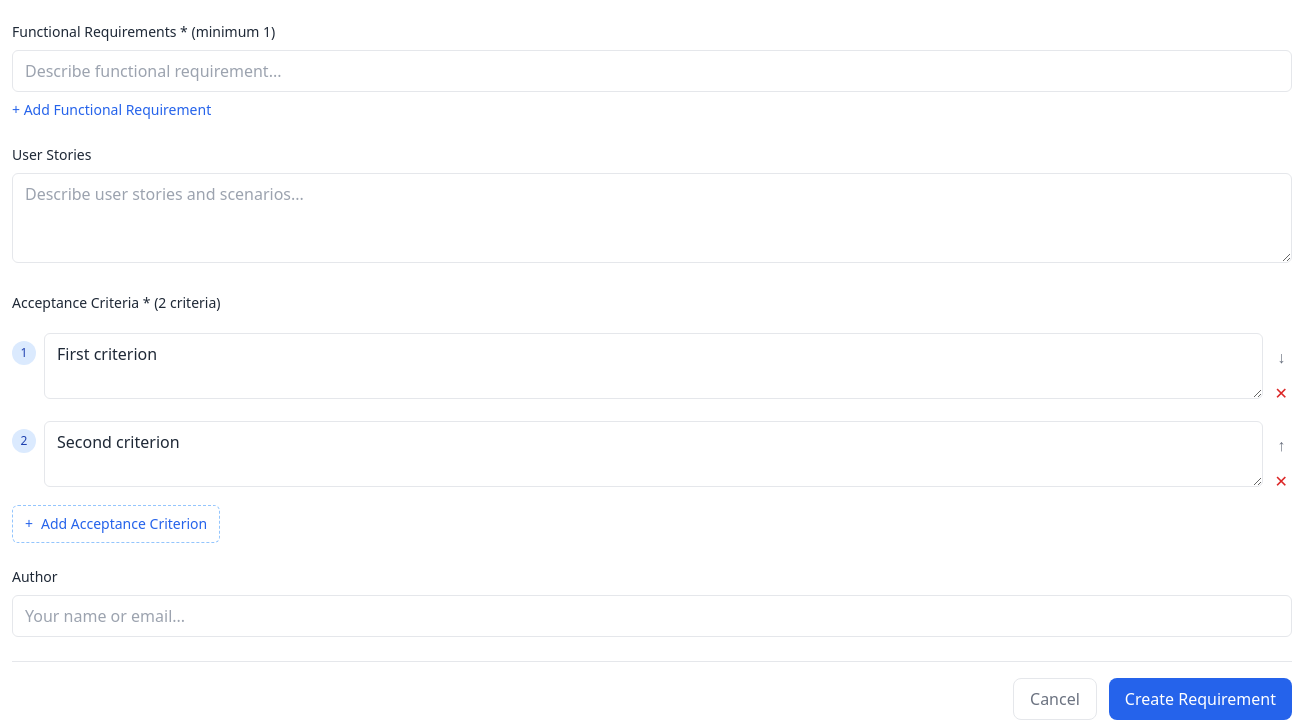
Test: RequirementForm - Acceptance Criteria Basic Tests › should remove criterion when remove button clicked
The image size is (1304, 720).
(page scrolled)
What coordinates should you click on to do the following:
click the 1st button titled "Remove acceptance criterion"
I would click on:
 (1281, 393)
Its box is [1271,377,1292,409].
(page scrolled)
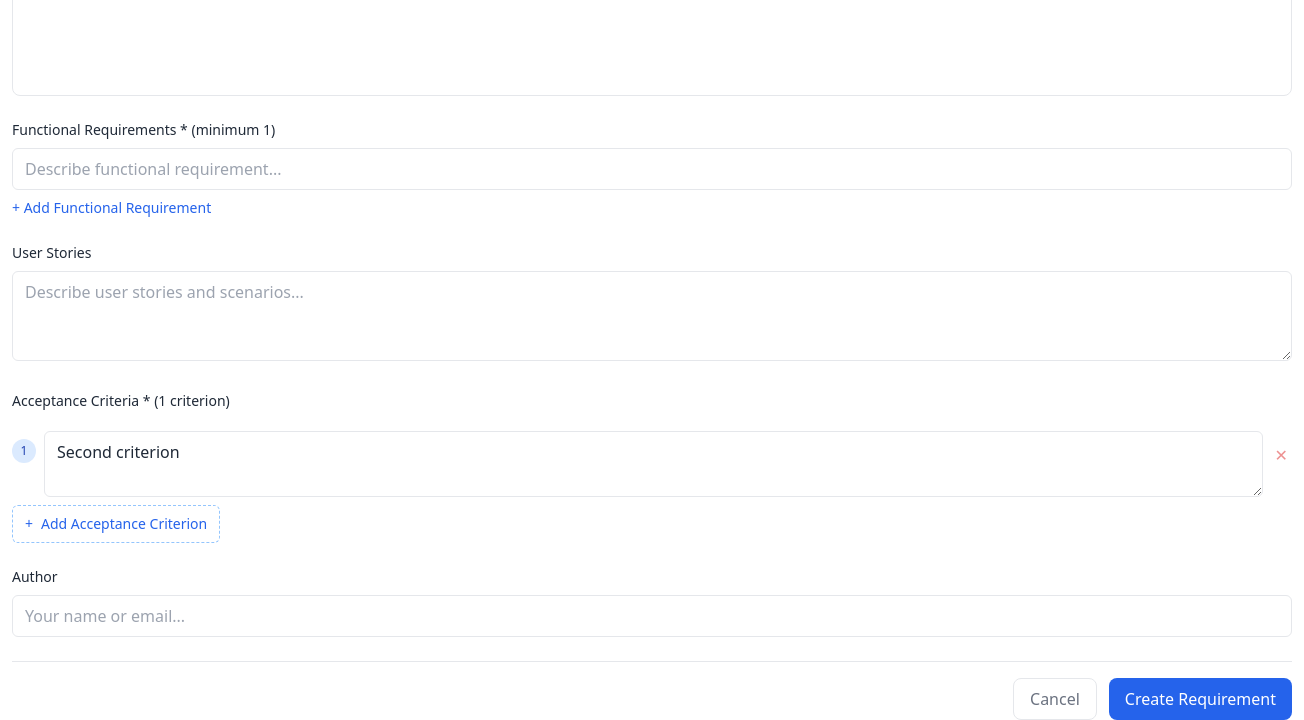
Now the text "Acceptance Criteria * (1 criterion)" is shown, box [12,391,230,411]
